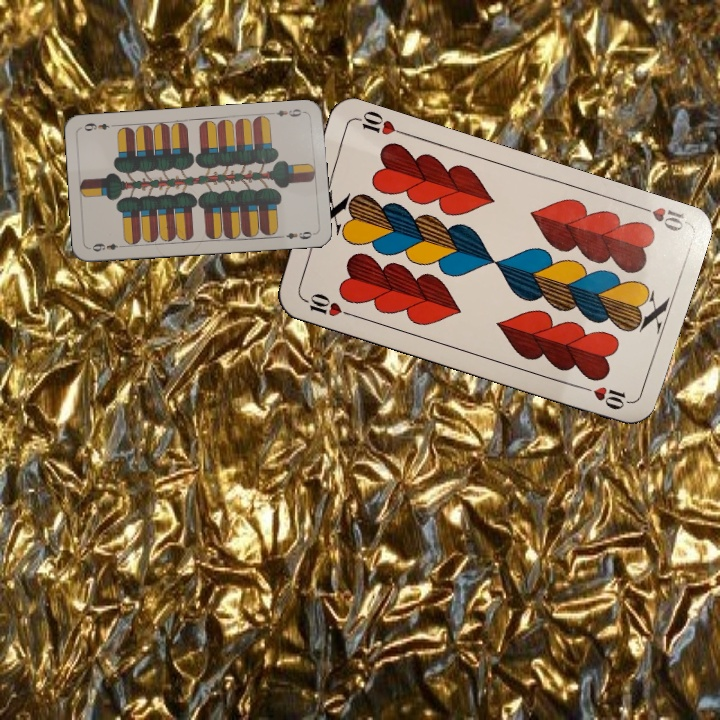E9: (267, 105, 307, 120), (89, 239, 127, 254)
H10: (631, 199, 689, 235), (297, 289, 354, 319)
